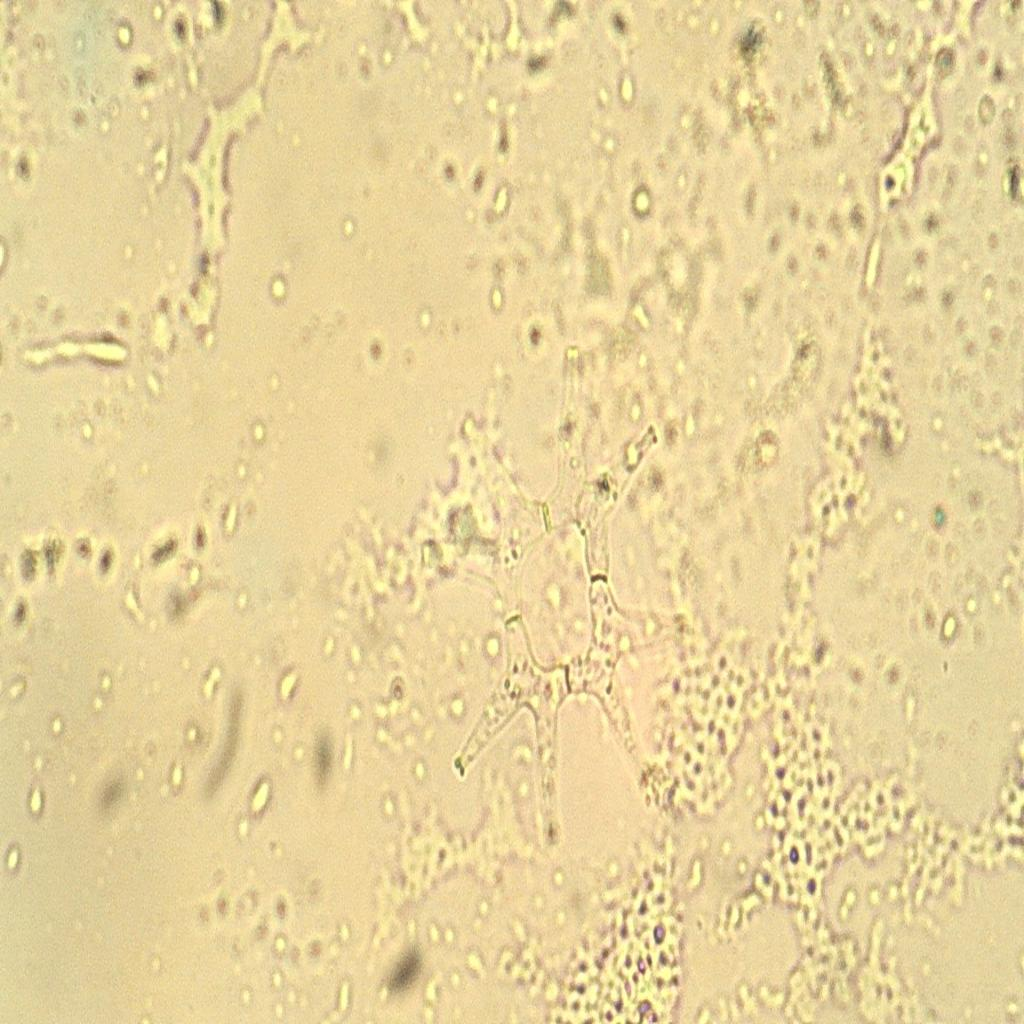Pediastrum_75TH: (418, 337, 692, 862)
